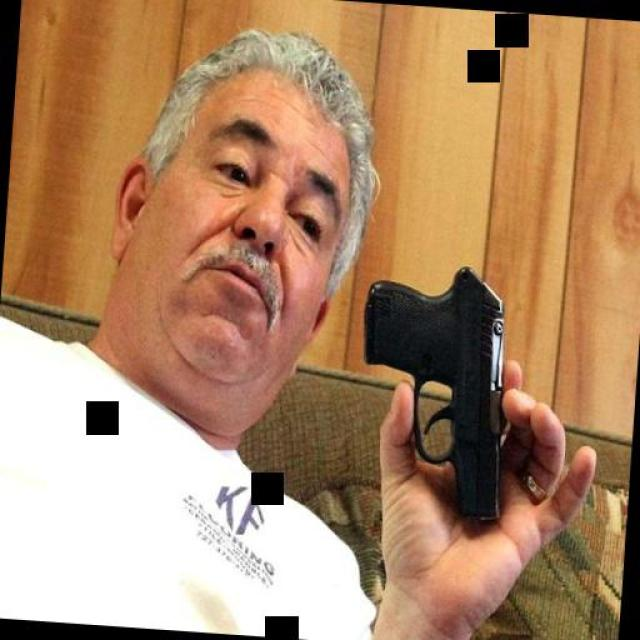gun: (340, 249, 520, 526)
